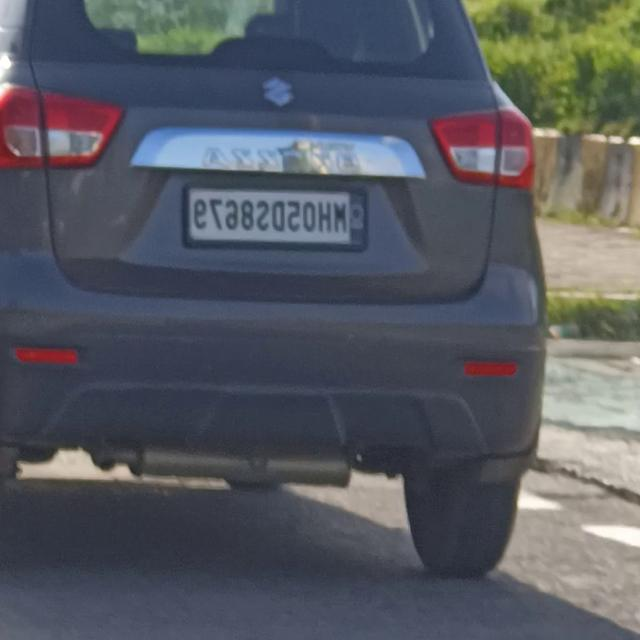license_plate: (176, 175, 374, 258)
